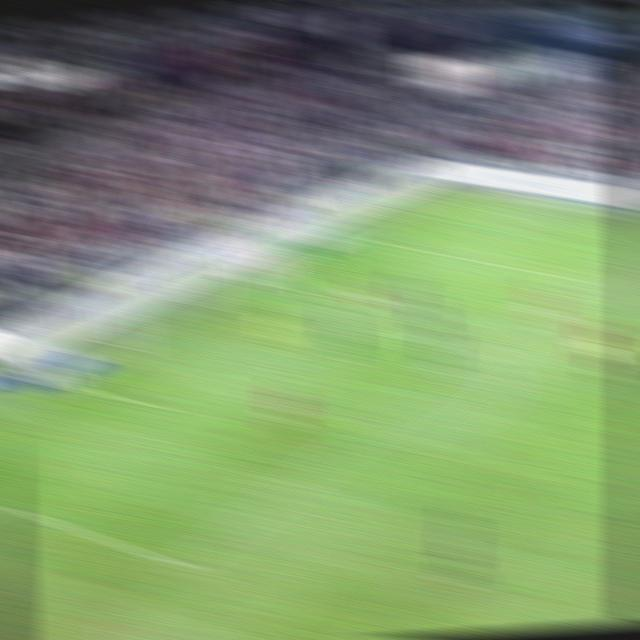bigarea_bottom_inner: (163, 547, 204, 583)
bigarea_top_inner: (558, 265, 597, 293)
bigarea_top_outter: (339, 225, 374, 247)
bottom_arc_area_intersection: (330, 427, 371, 457)
corner: (431, 180, 467, 198)
smallarea_bottom_inner: (128, 387, 168, 419)
smallarea_bottom_outter: (47, 368, 86, 393)
smallarea_top_inner: (316, 286, 352, 309)
smallarea_top_outter: (246, 269, 287, 293)
top_arc_area_intersection: (465, 330, 506, 359)
